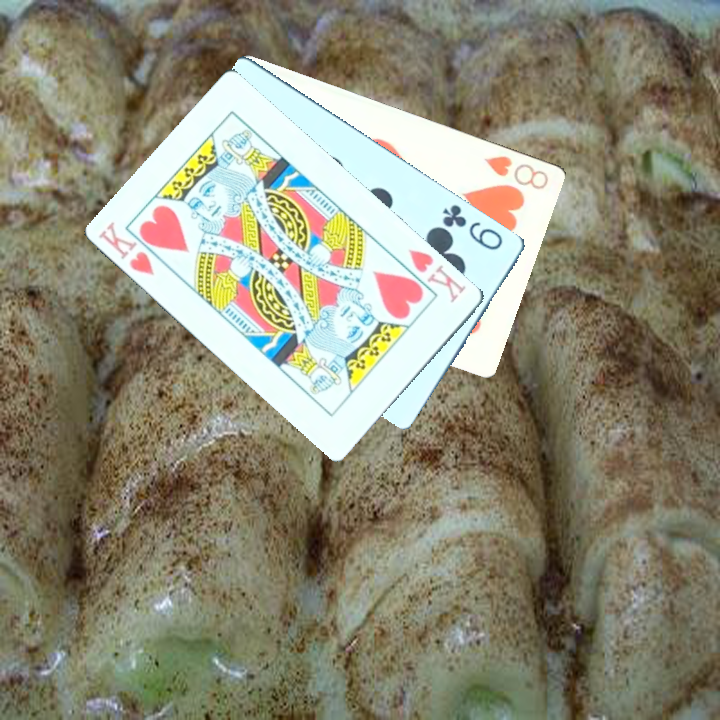8h: (479, 151, 551, 192)
9c: (438, 200, 506, 253)
Kh: (94, 217, 174, 278), (393, 245, 469, 305)
